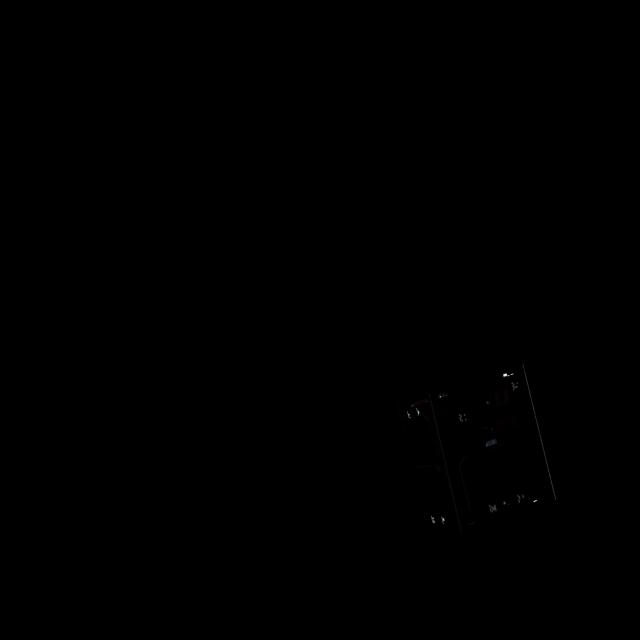satellite: (393, 355, 568, 550)
